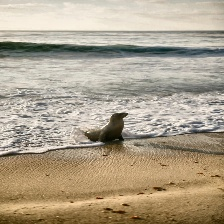seal: (85, 112, 128, 142)
